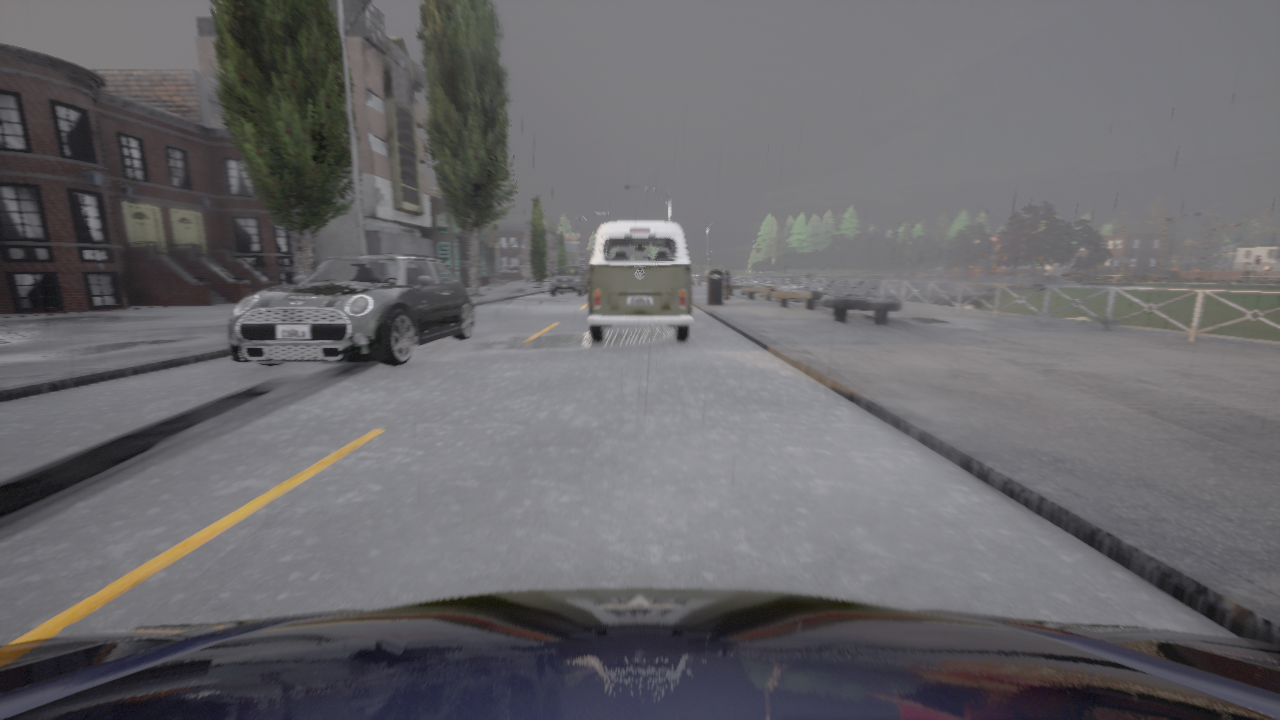cyclist: (0, 588, 1279, 719), (228, 256, 474, 365), (587, 221, 692, 341), (549, 266, 587, 295), (586, 273, 588, 281)
pedestrian: (723, 271, 731, 298)
